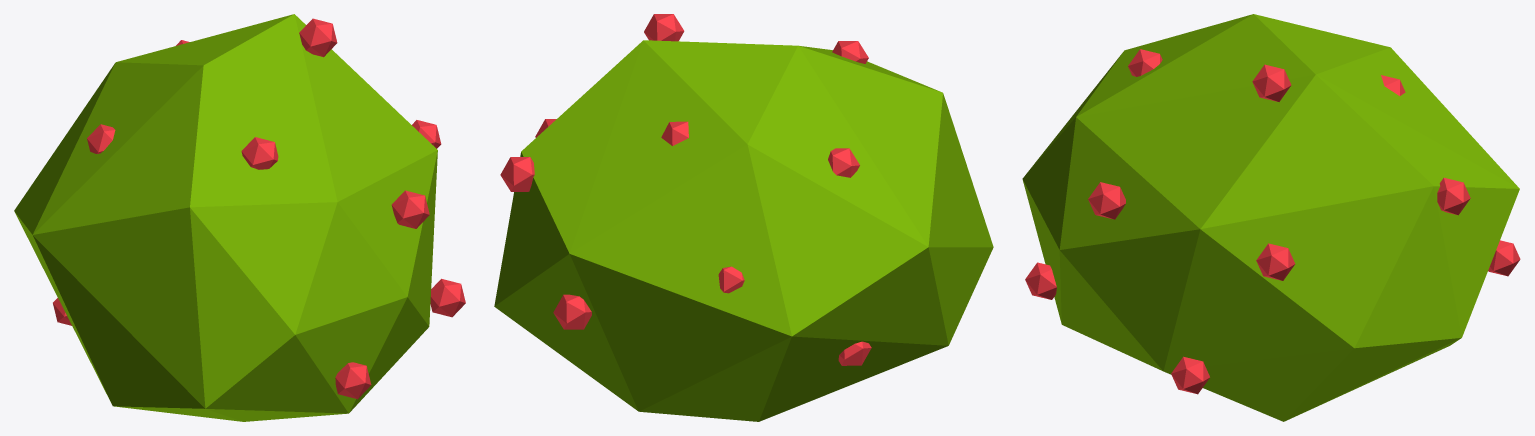
The model's file is BushWithBerrys.fbx.
The picture shows the model from 3 angles, left to right: view 1: azimuth 30°, elevation 25°; view 2: azimuth 150°, elevation 25°; view 3: azimuth 270°, elevation 25°; orthographic projection.
Visible parts, largest first — view 1: bush, berry; view 2: bush, berry; view 3: bush, berry.
Boxes of the visible parts, x1=… form: bush: x1=14, y1=14, x2=437, y2=421; berry: x1=53, y1=18, x2=465, y2=399; bush: x1=494, y1=40, x2=993, y2=421; berry: x1=500, y1=14, x2=871, y2=365; bush: x1=1022, y1=14, x2=1519, y2=421; berry: x1=1025, y1=49, x2=1520, y2=394.
Bounding box in the file's own units: 138 × 122 × 152.
